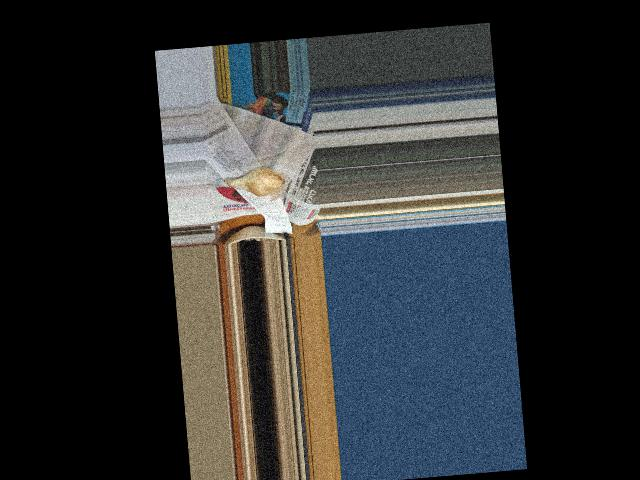onion: (229, 165, 286, 199)
